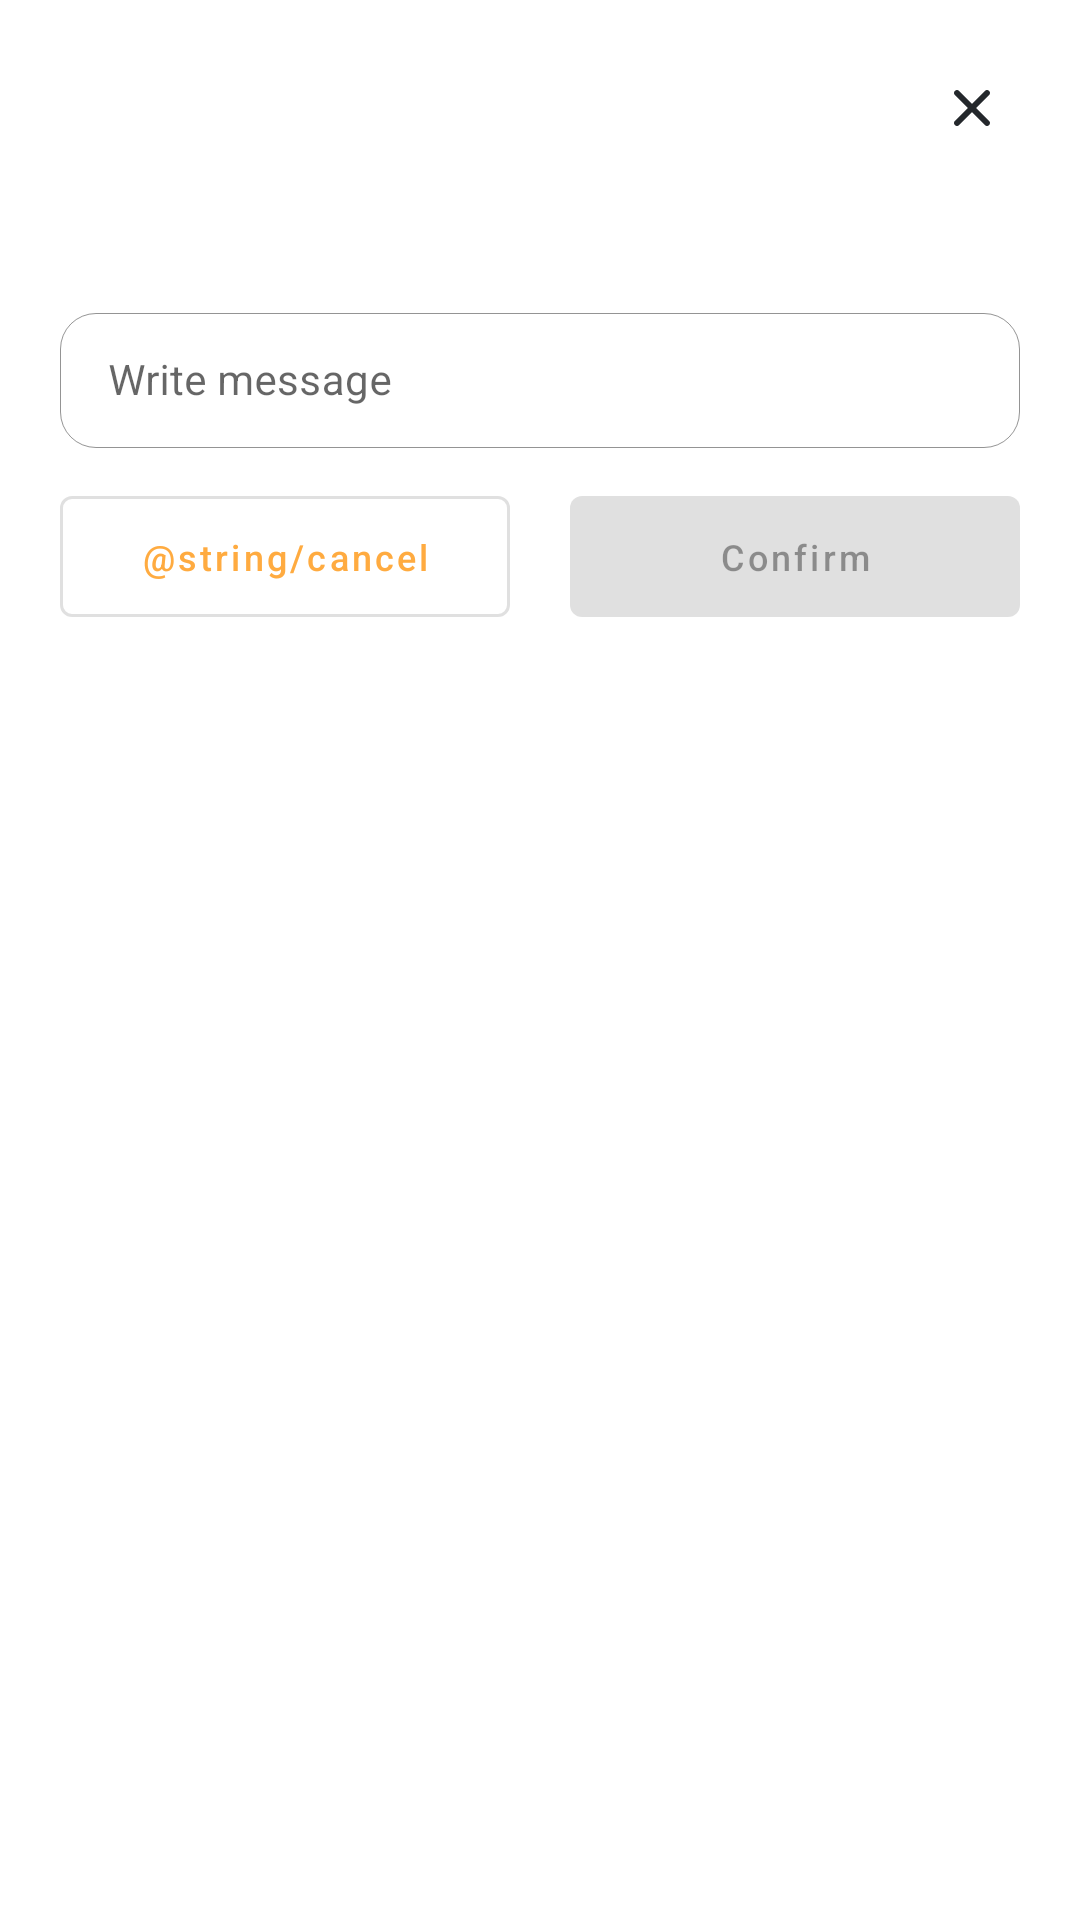

Screen size 1080 × 1920. Icon name, then its center in pixels as (x,y):
clear: (972,108)
